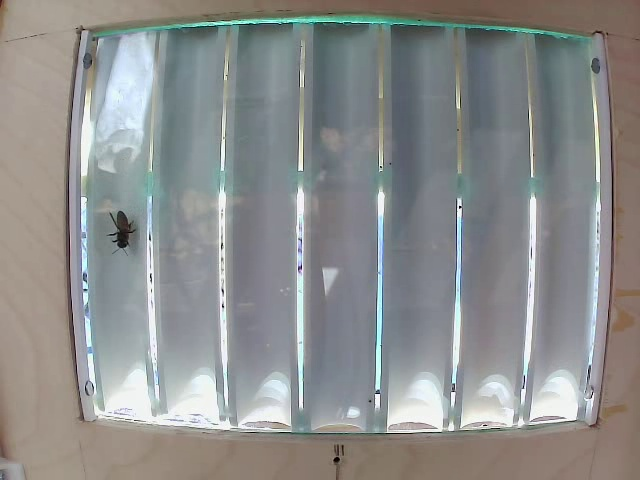bee: (104, 210, 148, 251)
